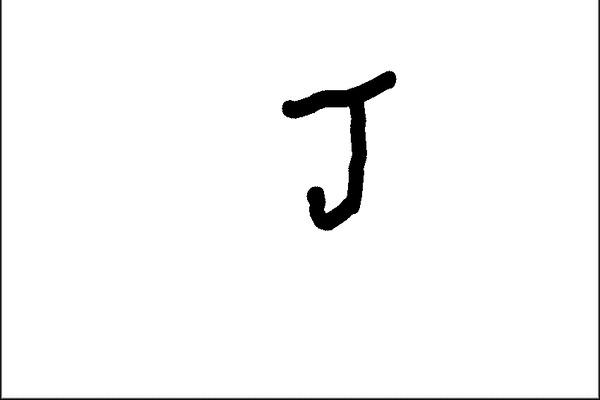J: (277, 67, 402, 233)
